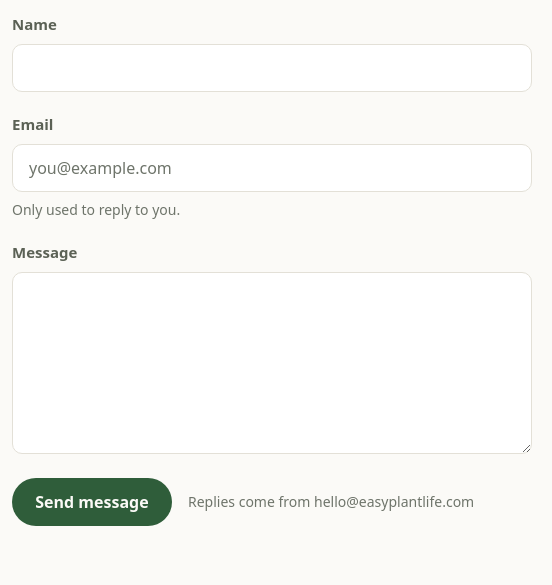
it: ContactForm › Validation › requires a valid email
The image size is (552, 585).
Step 1. Type "Maya" into the field labelled "Name" → (272, 68), box x1=12 y1=44 x2=532 y2=92
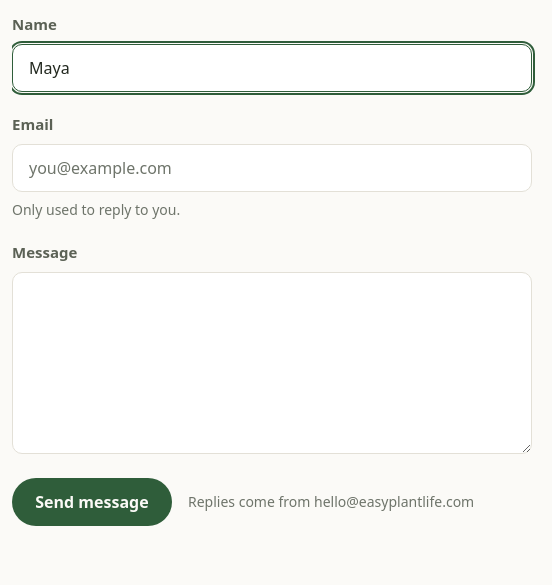
Step 2. Type "nope" into the field labelled "Email" → (272, 168), box x1=12 y1=144 x2=532 y2=192
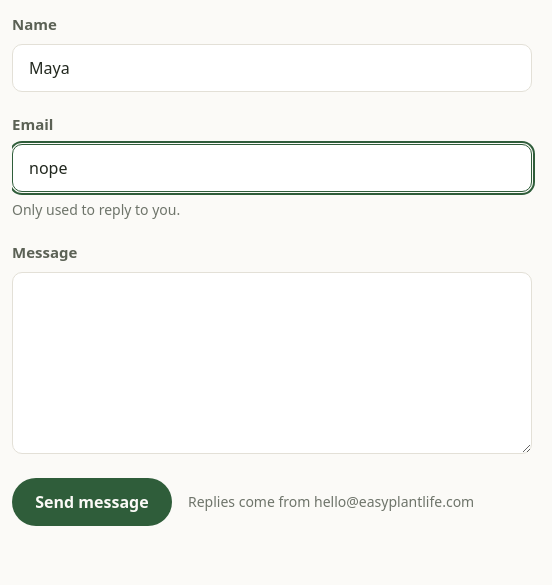
Step 3. Click the button "Send message" → click(92, 502), box x1=12 y1=478 x2=172 y2=526
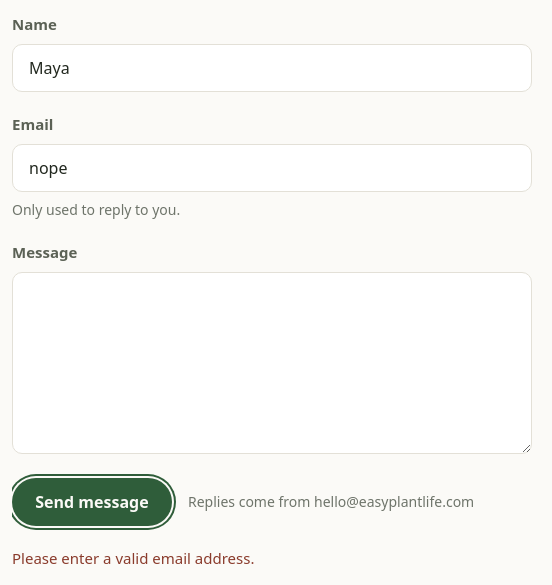
Now the message reads "Please enter a valid email address.", box x1=12 y1=548 x2=254 y2=568
